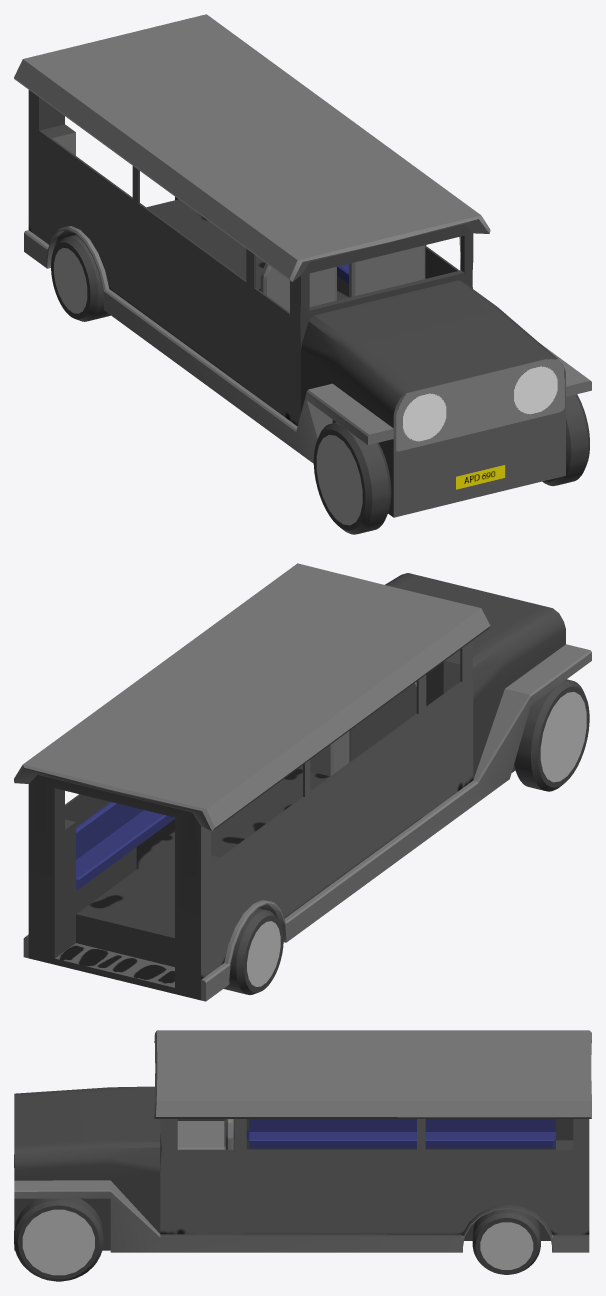
The model's file is Jeepney.fbx.
The picture shows the model from 3 angles, top to bottom: view 1: azimuth 30°, elevation 25°; view 2: azimuth 150°, elevation 25°; view 3: azimuth 270°, elevation 25°; orthographic projection. The views are drawn at different scales.
Visible parts, largest first — view 1: Jeep2, FrontWheel1, BackWheel1, FrontWheel; view 2: Jeep2, FrontWheel1, BackWheel1; view 3: Jeep2, FrontWheel, BackWheel.
Part boxes in pixels (x1=…): Jeep2: x1=14, y1=14, x2=591, y2=517; FrontWheel1: x1=313, y1=422, x2=391, y2=534; BackWheel1: x1=51, y1=235, x2=110, y2=321; FrontWheel: x1=542, y1=394, x2=589, y2=486; Jeep2: x1=14, y1=563, x2=591, y2=1001; FrontWheel1: x1=513, y1=679, x2=589, y2=791; BackWheel1: x1=223, y1=908, x2=283, y2=994; Jeep2: x1=14, y1=1030, x2=591, y2=1252; FrontWheel: x1=14, y1=1198, x2=103, y2=1281; BackWheel: x1=472, y1=1209, x2=540, y2=1274.
Size of the model in its own units: 38.13 by 35.91 by 108.
